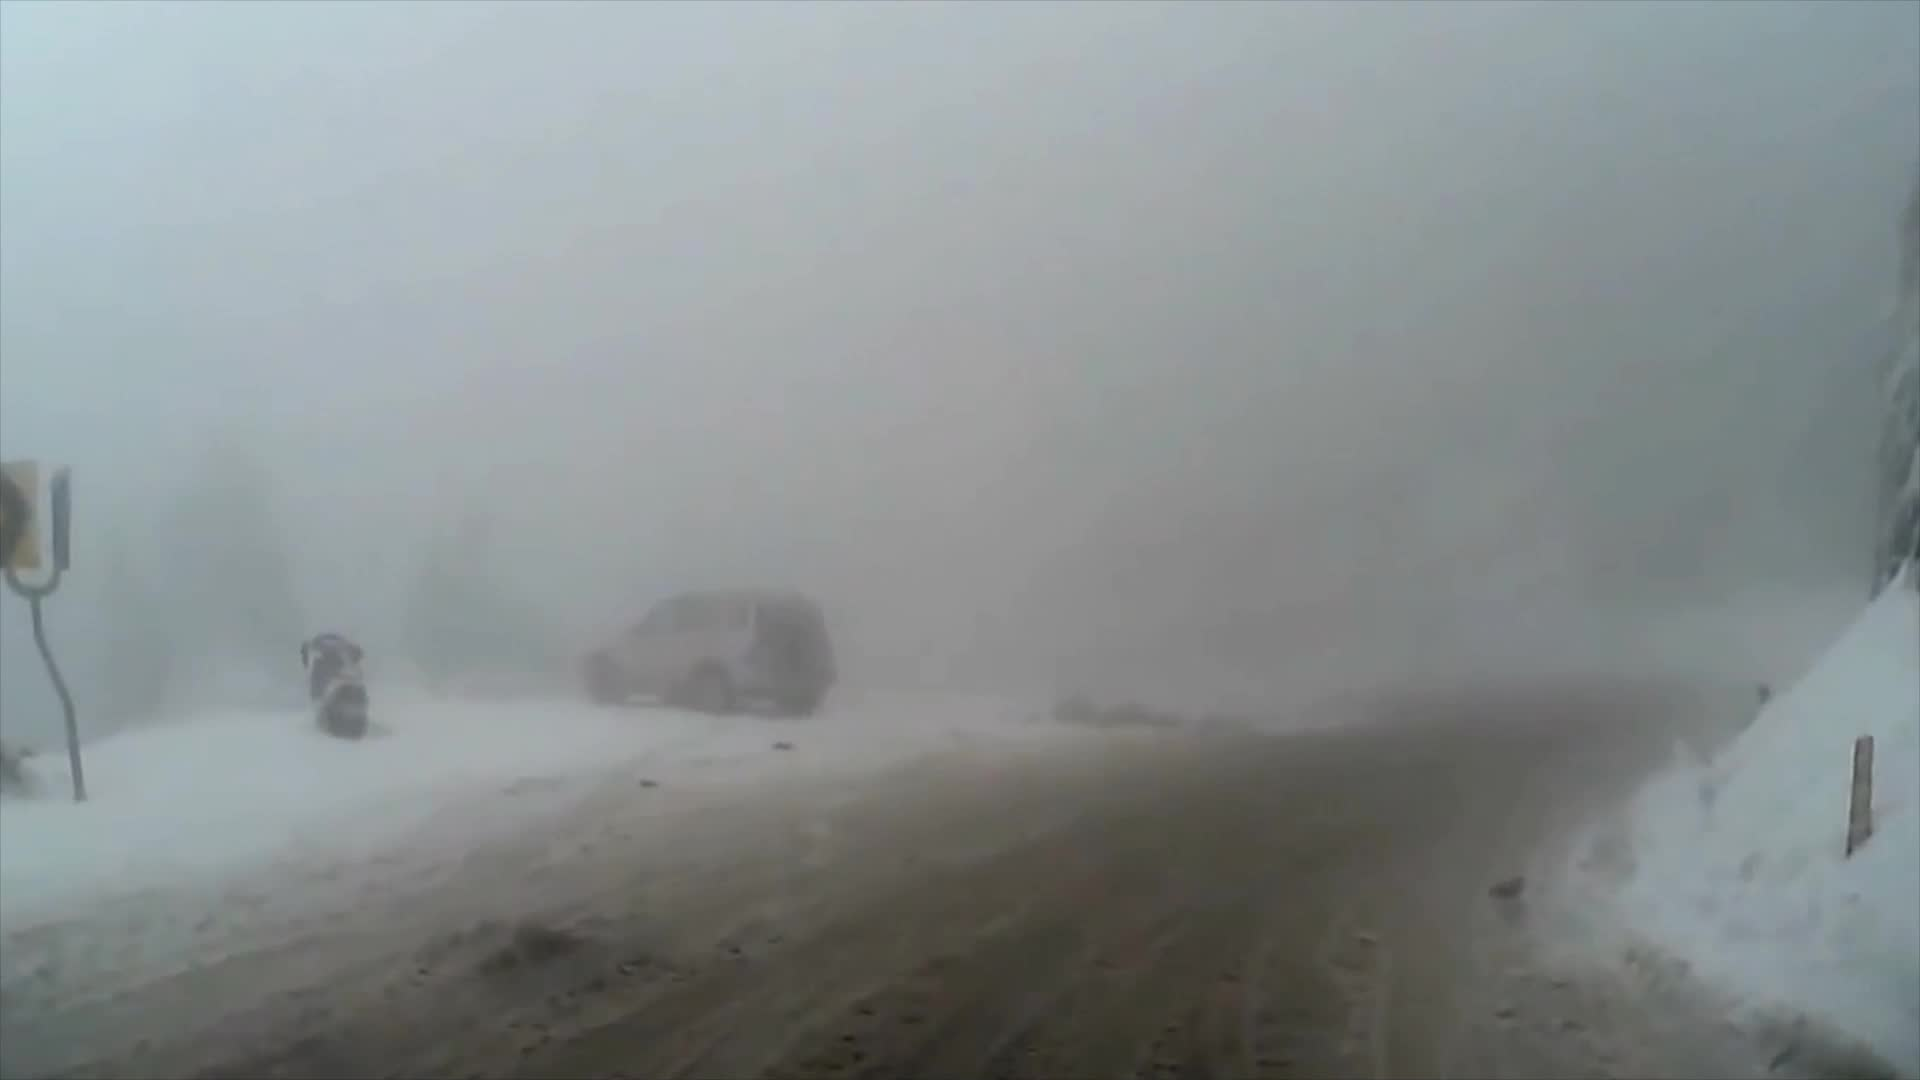vehicle: (578, 591, 833, 719)
